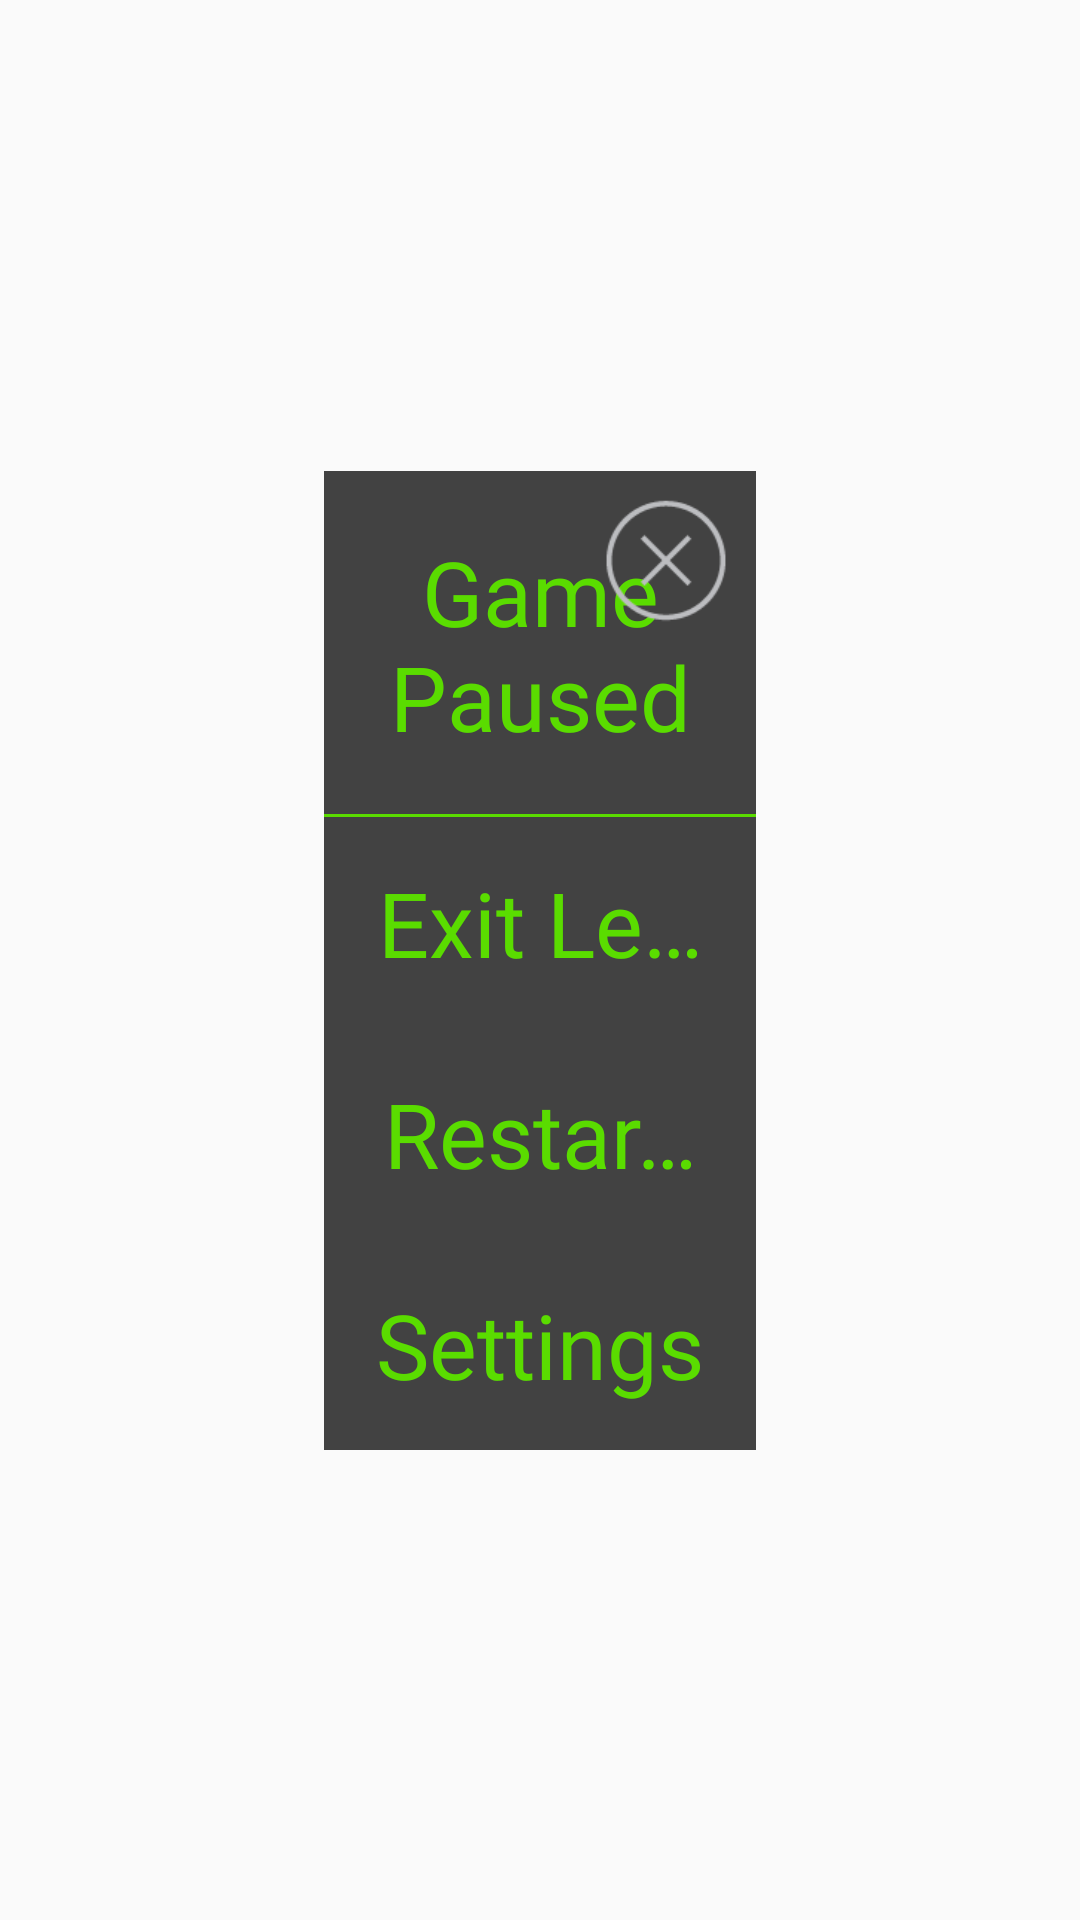

Where to tap for icons on this 1080 × 1920 app screen, as (x,y):
close: (666,564)
